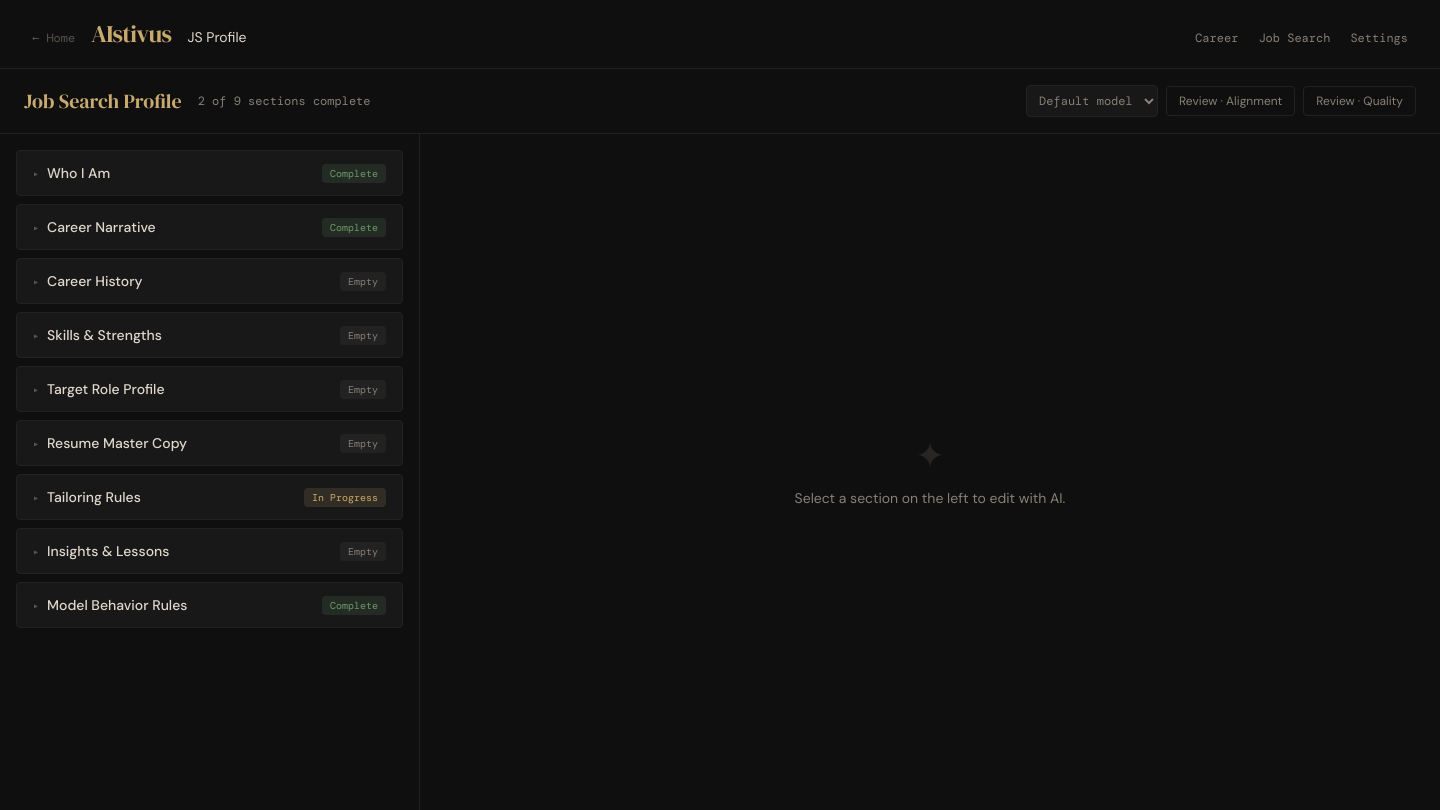
Test: JobSearchProfile › shows "Generate Rules" button for tailoring_rules section
Expected: the text "Tailoring Rules" is shown, x1=47 y1=487 x2=141 y2=507
Click the text "Tailoring Rules": (87, 497) x1=33 y1=487 x2=141 y2=507
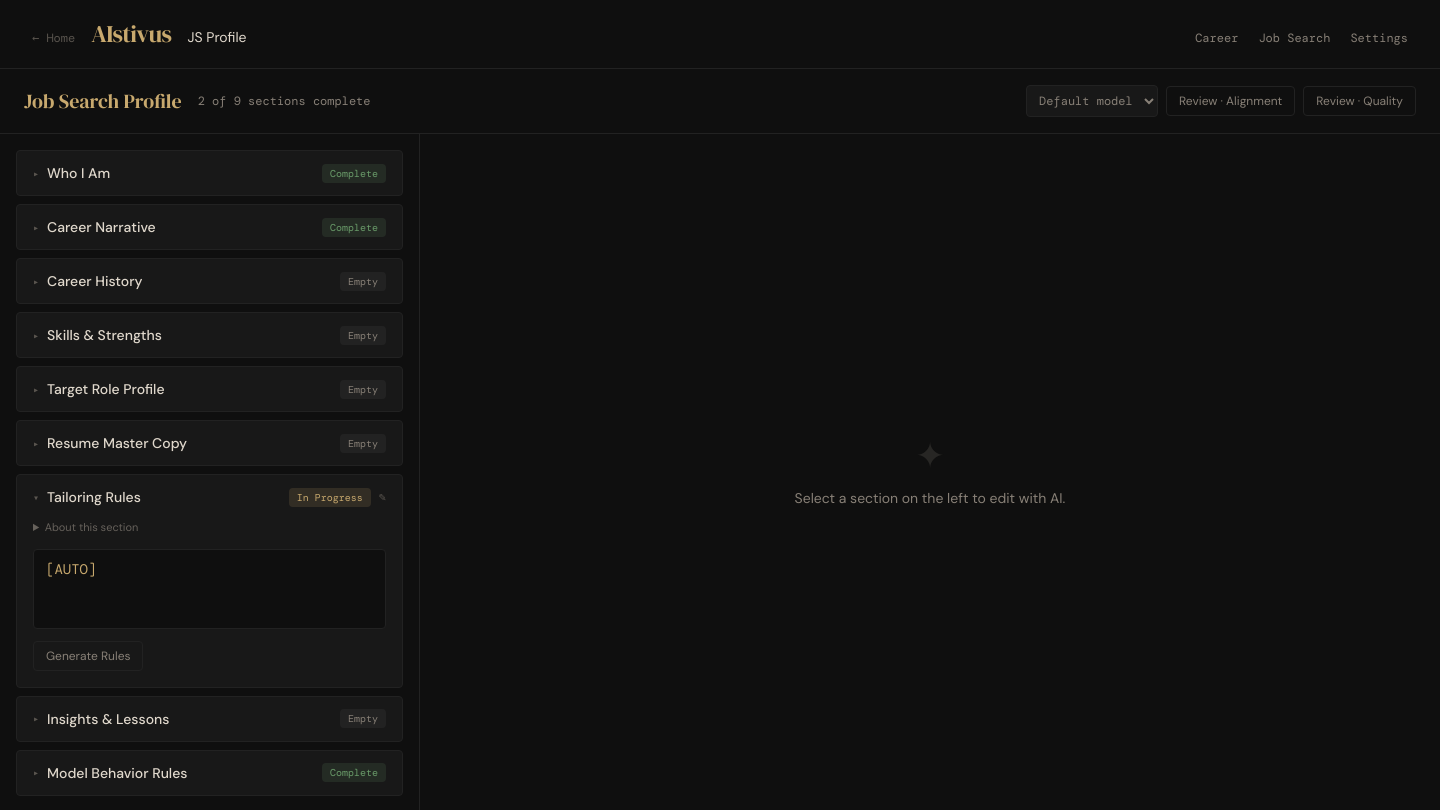
Expected: the button "Generate Rules" is shown, x1=33 y1=641 x2=144 y2=671
